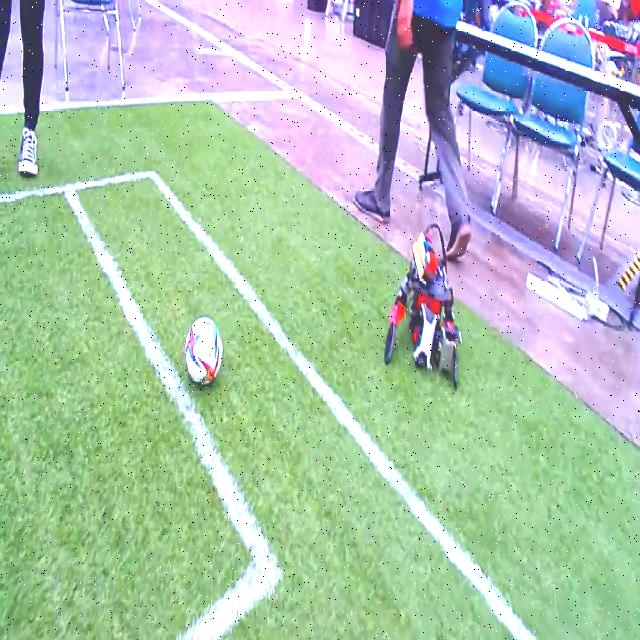ball: (185, 316, 223, 386)
